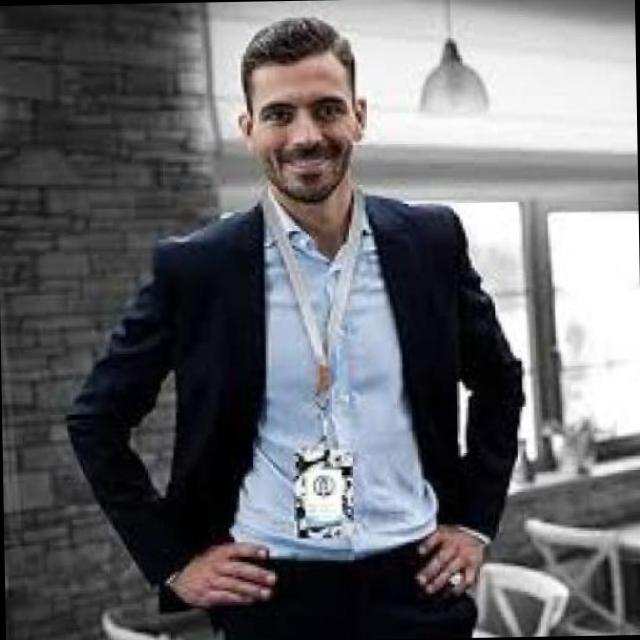id_card: (262, 199, 376, 536)
